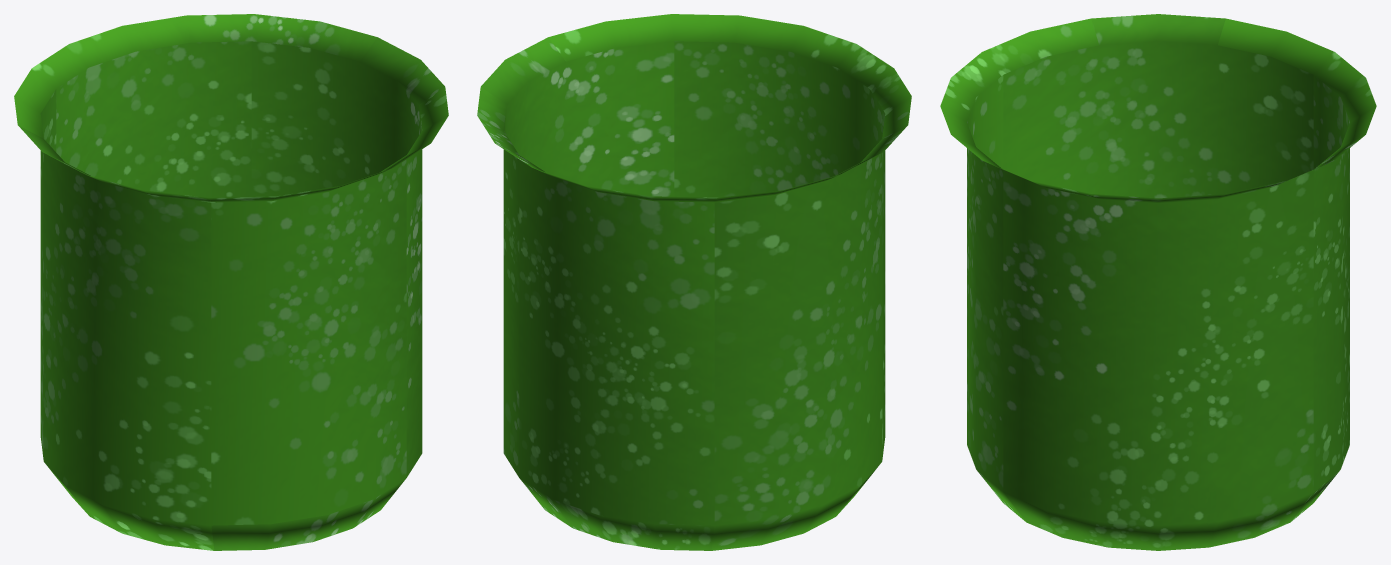
The model's file is golf hole.fbx.
3 renders of one model, left to right at view 1: azimuth 30°, elevation 25°; view 2: azimuth 150°, elevation 25°; view 3: azimuth 270°, elevation 25°, orthographic.
Parts seen in each view (by area): view 1: polySurface429; view 2: polySurface429; view 3: polySurface429.
Part boxes in pixels (bbox=[...]): polySurface429: bbox=[14, 14, 448, 550]; polySurface429: bbox=[477, 14, 911, 550]; polySurface429: bbox=[940, 14, 1376, 550].
Size of the model in its own units: 0.8158 by 0.7751 by 0.8157.
1 material, 1 textured.
